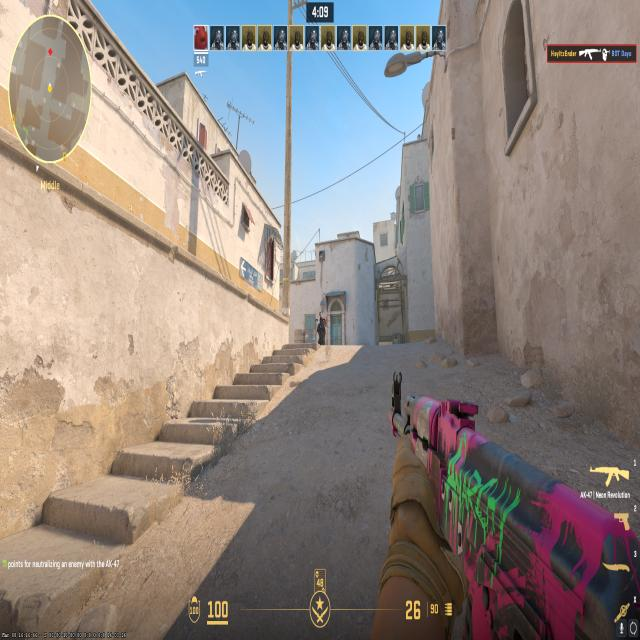ct: (316, 312, 326, 346)
